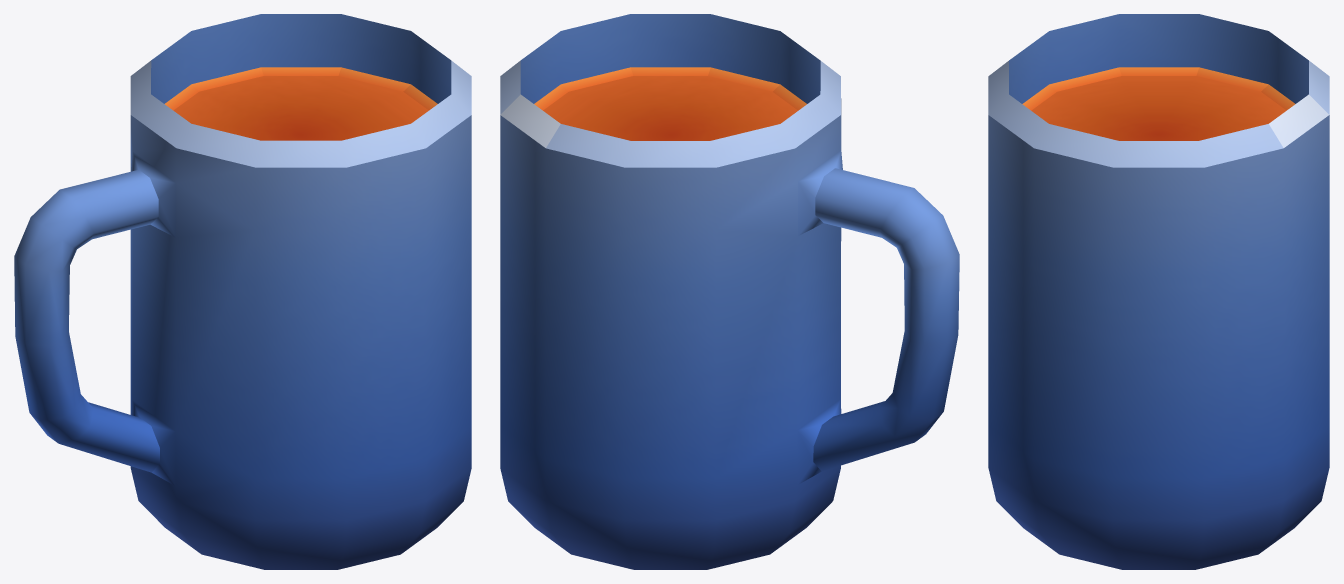
The model's file is m_GlassMug01_Tea01.fbx.
3 renders of one model, left to right at view 1: azimuth 30°, elevation 25°; view 2: azimuth 150°, elevation 25°; view 3: azimuth 270°, elevation 25°, orthographic.
Parts seen in each view (by area): view 1: m_GlassMug01_Tea01; view 2: m_GlassMug01_Tea01; view 3: m_GlassMug01_Tea01.
Boxes of the visible parts, x1,y1,x2,y2 form: m_GlassMug01_Tea01: (14,14,471,569); m_GlassMug01_Tea01: (500,14,959,569); m_GlassMug01_Tea01: (988,14,1329,569).
Size of the model in its own units: 11.37 by 10.99 by 7.81.
